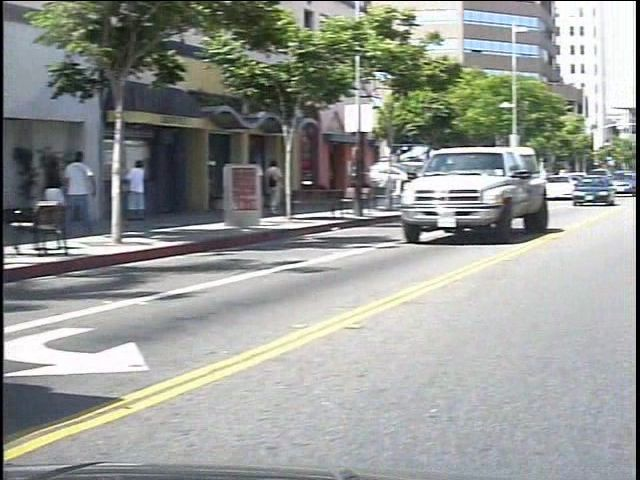person: (77, 147, 112, 238), (55, 149, 85, 239), (139, 149, 165, 228), (278, 158, 300, 219)
